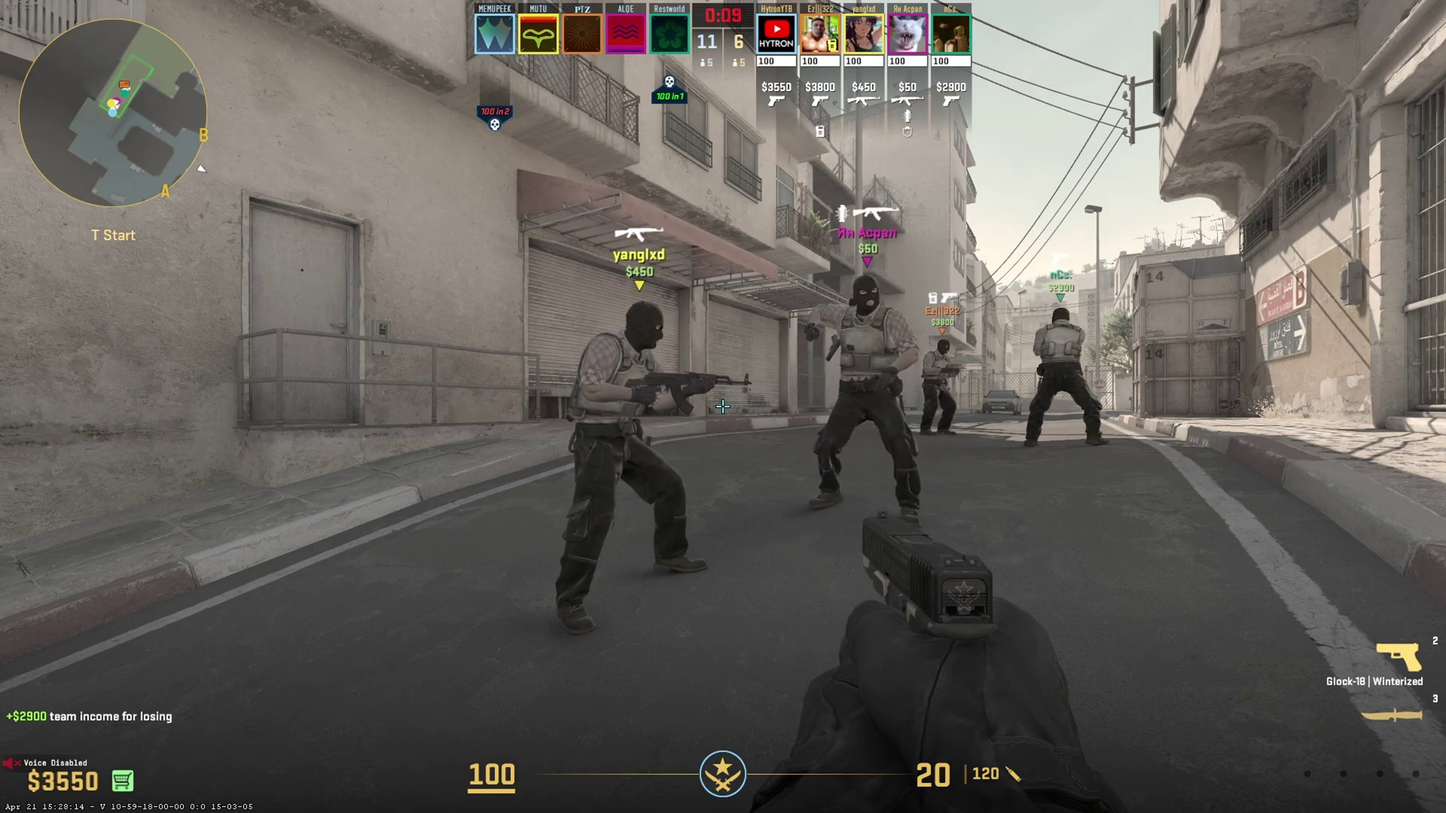Terrorist: (553, 300, 706, 635), (818, 276, 921, 525), (1025, 308, 1108, 447), (919, 340, 957, 435)
